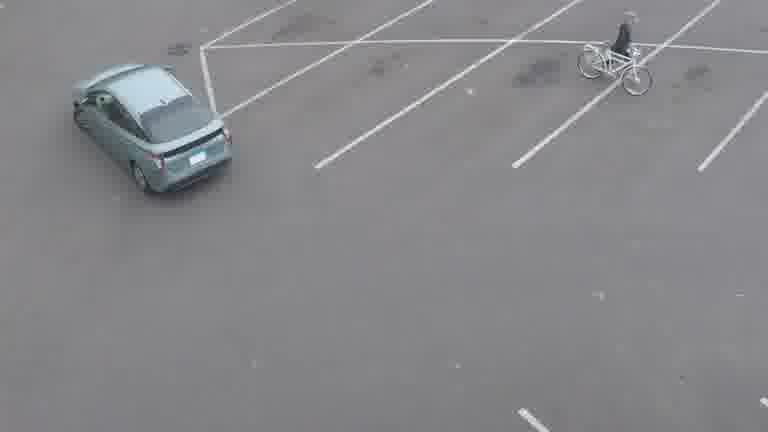car: (575, 10, 655, 97)
person: (69, 64, 234, 196)
